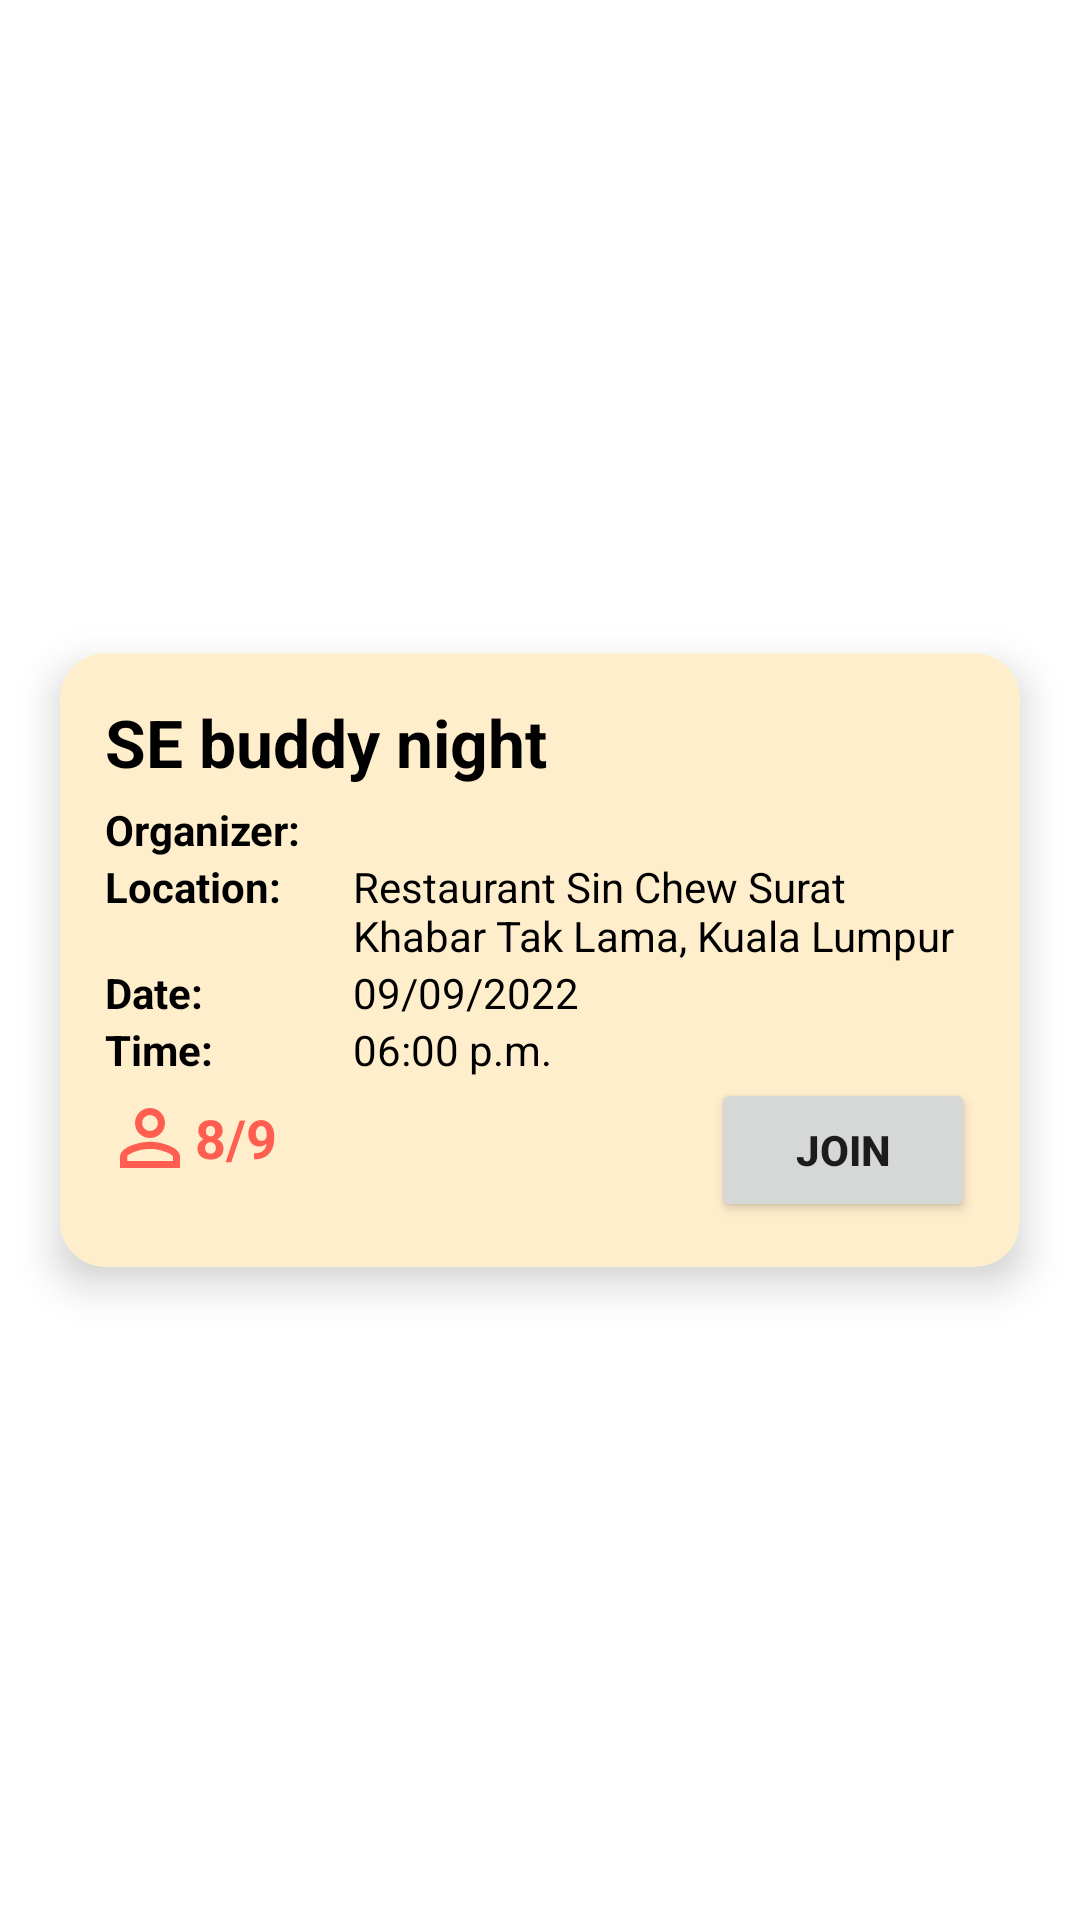

Screen size 1080 × 1920. Icon name, then its box in pixels as (x1, y1, x2, y2):
person: (120, 1108, 180, 1168)
